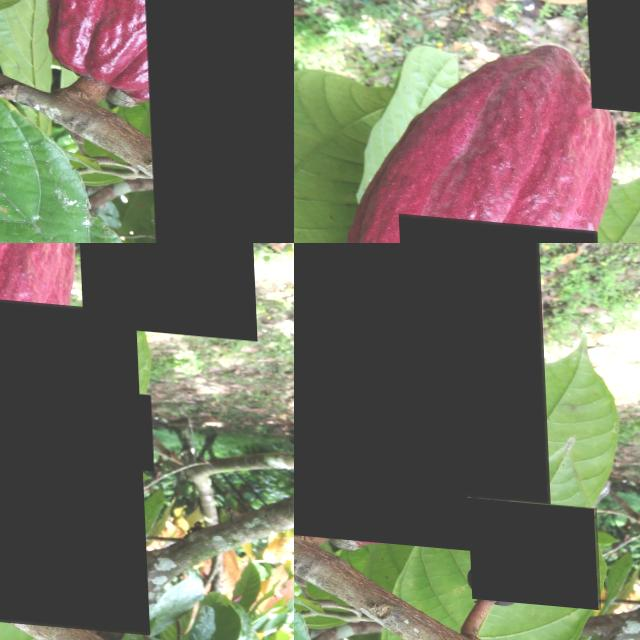Fitoftora: (0, 287, 144, 627)
Monilia: (465, 492, 596, 603)
Sana: (294, 243, 549, 551), (136, 0, 294, 243), (75, 243, 255, 331), (586, 0, 640, 111), (108, 385, 150, 464), (235, 243, 269, 256)
